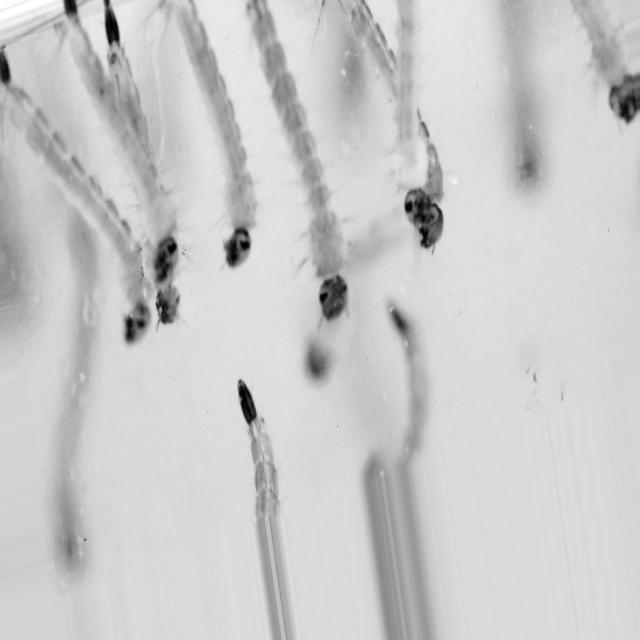larvas: (0, 30, 165, 343), (56, 0, 189, 294), (242, 1, 353, 323), (167, 5, 267, 280), (63, 248, 94, 560), (574, 0, 639, 123), (95, 0, 153, 137), (342, 1, 402, 124), (500, 4, 539, 178), (397, 9, 428, 223), (391, 306, 431, 458), (236, 376, 278, 518)
